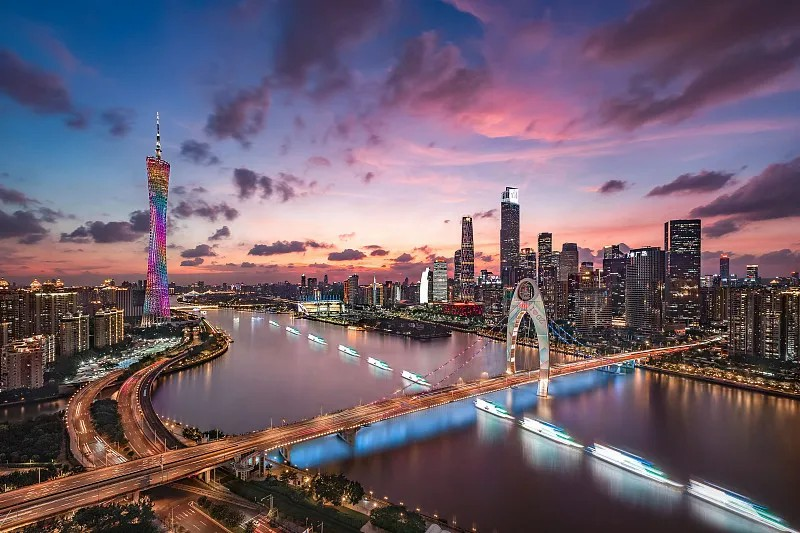Canton: (143, 112, 173, 327)
